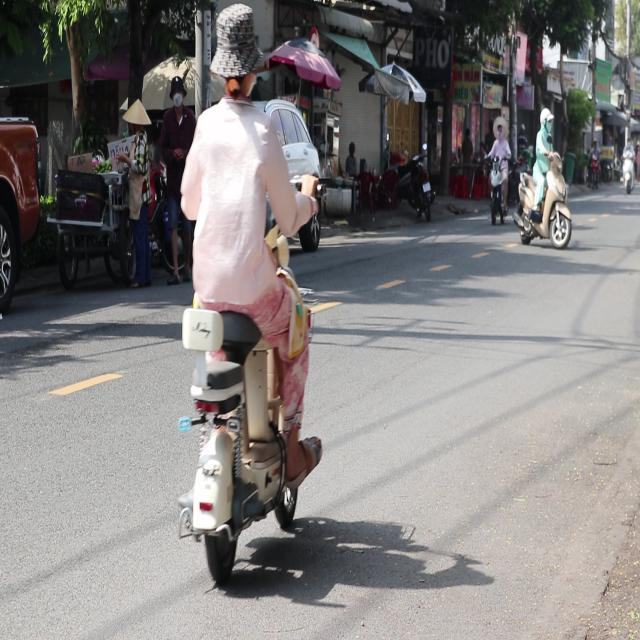helmet: (539, 106, 552, 131)
licenseplate: (170, 0, 326, 596), (516, 105, 572, 248)
motorcyclist: (209, 0, 262, 100)
